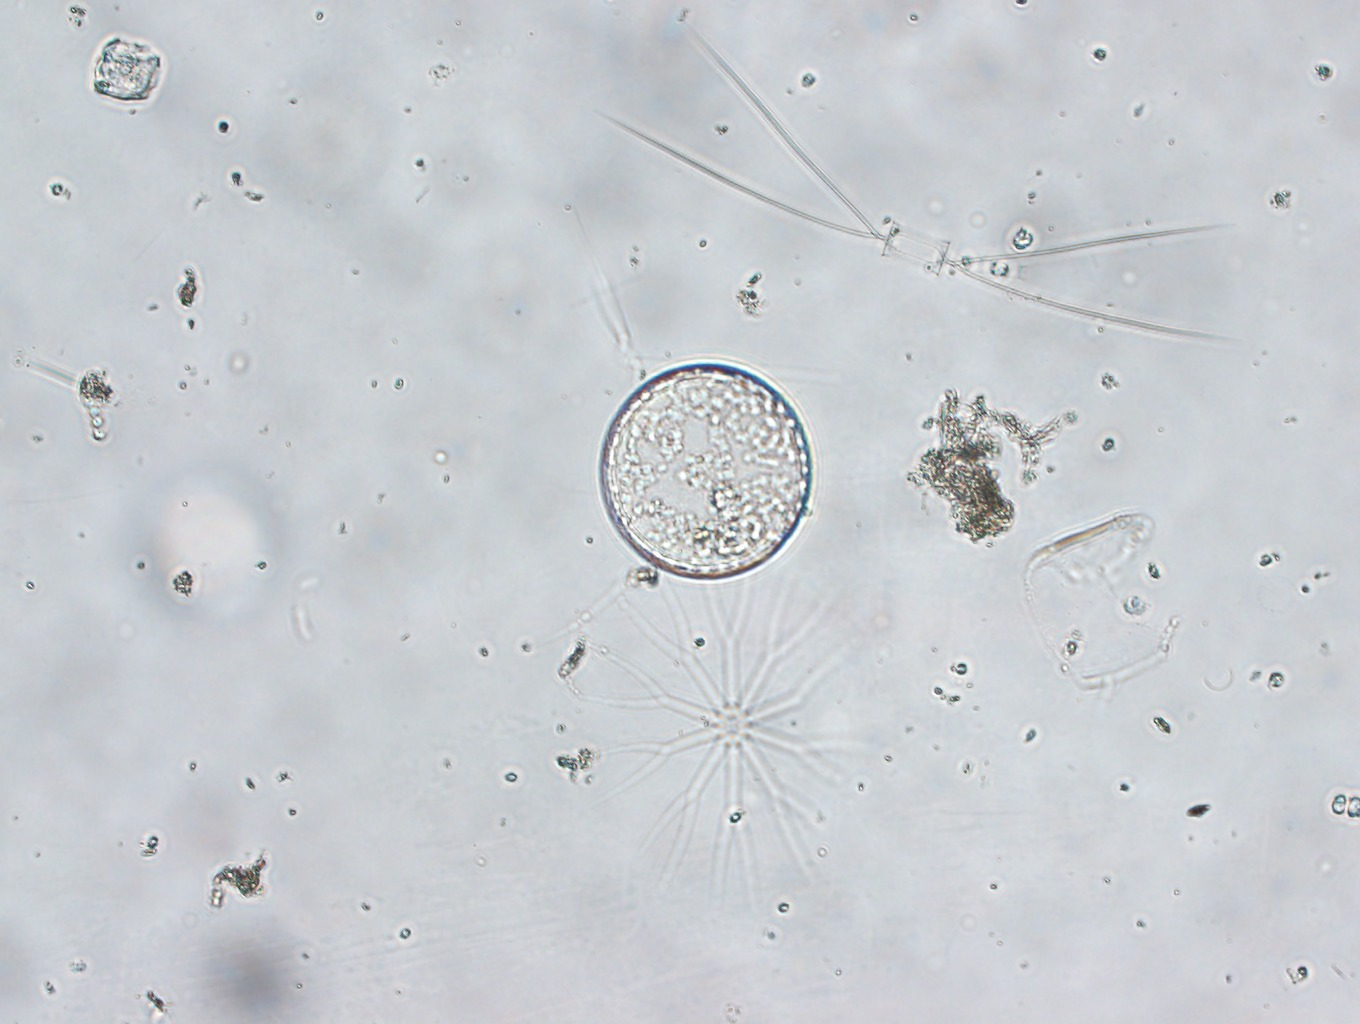bacteriastrum: (558, 564, 884, 913)
chaetoceros: (592, 8, 1233, 345)
coscinodiscus: (590, 358, 818, 583)
